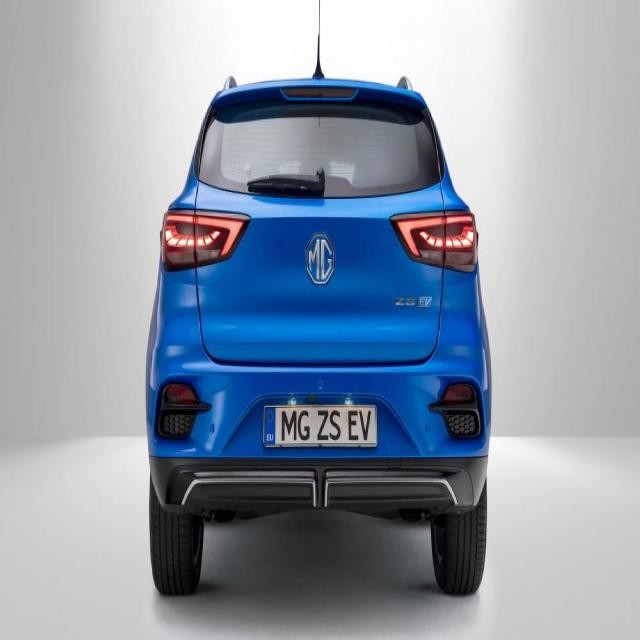yolov7-seg-car: (145, 0, 492, 597)
